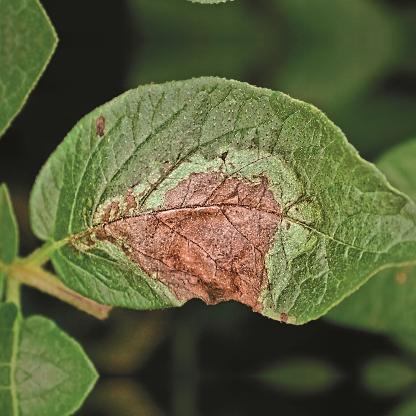Late-Blight: (30, 74, 390, 368)
